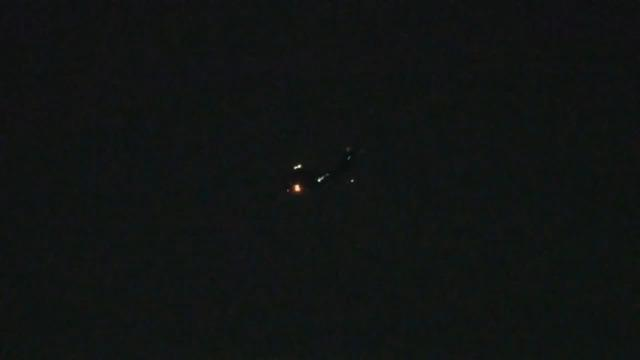Plane: (245, 142, 355, 204)
